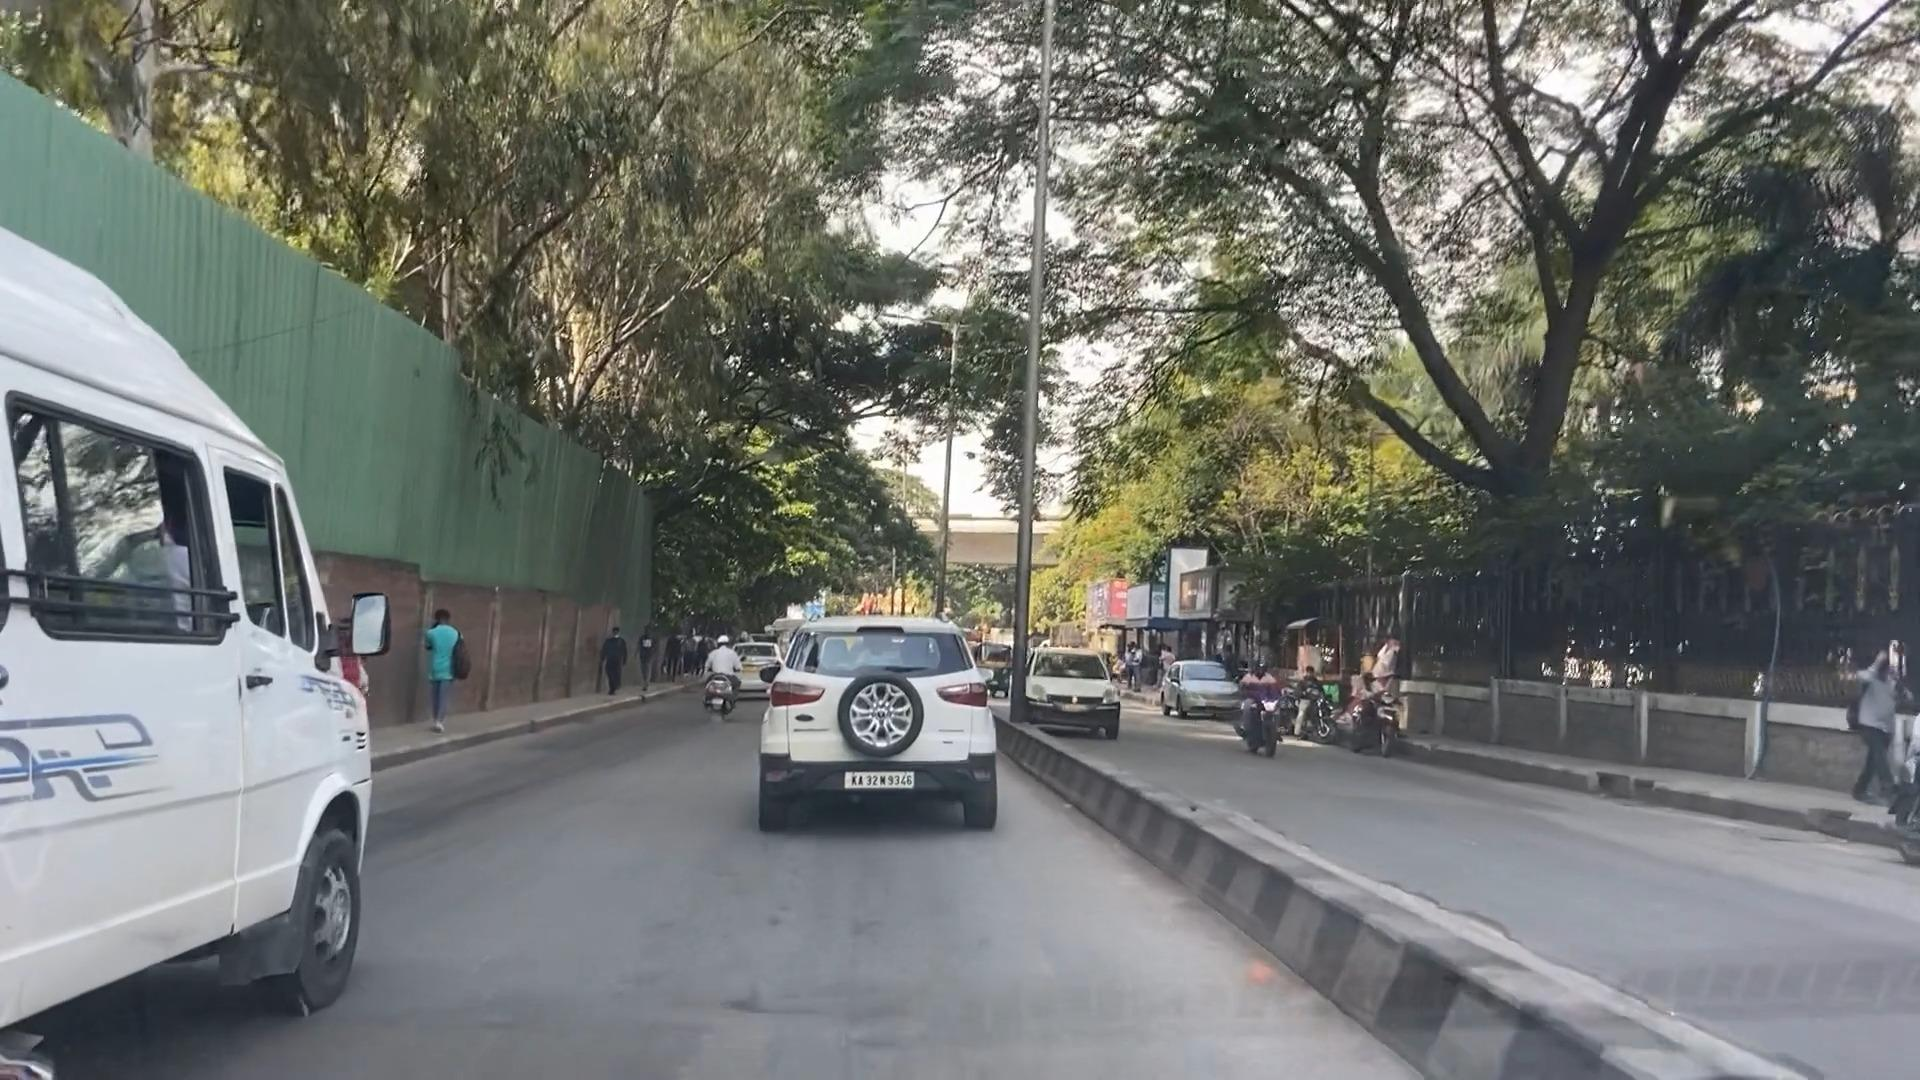HMV: (0, 228, 372, 1080)
LMV: (786, 600, 1000, 819)
